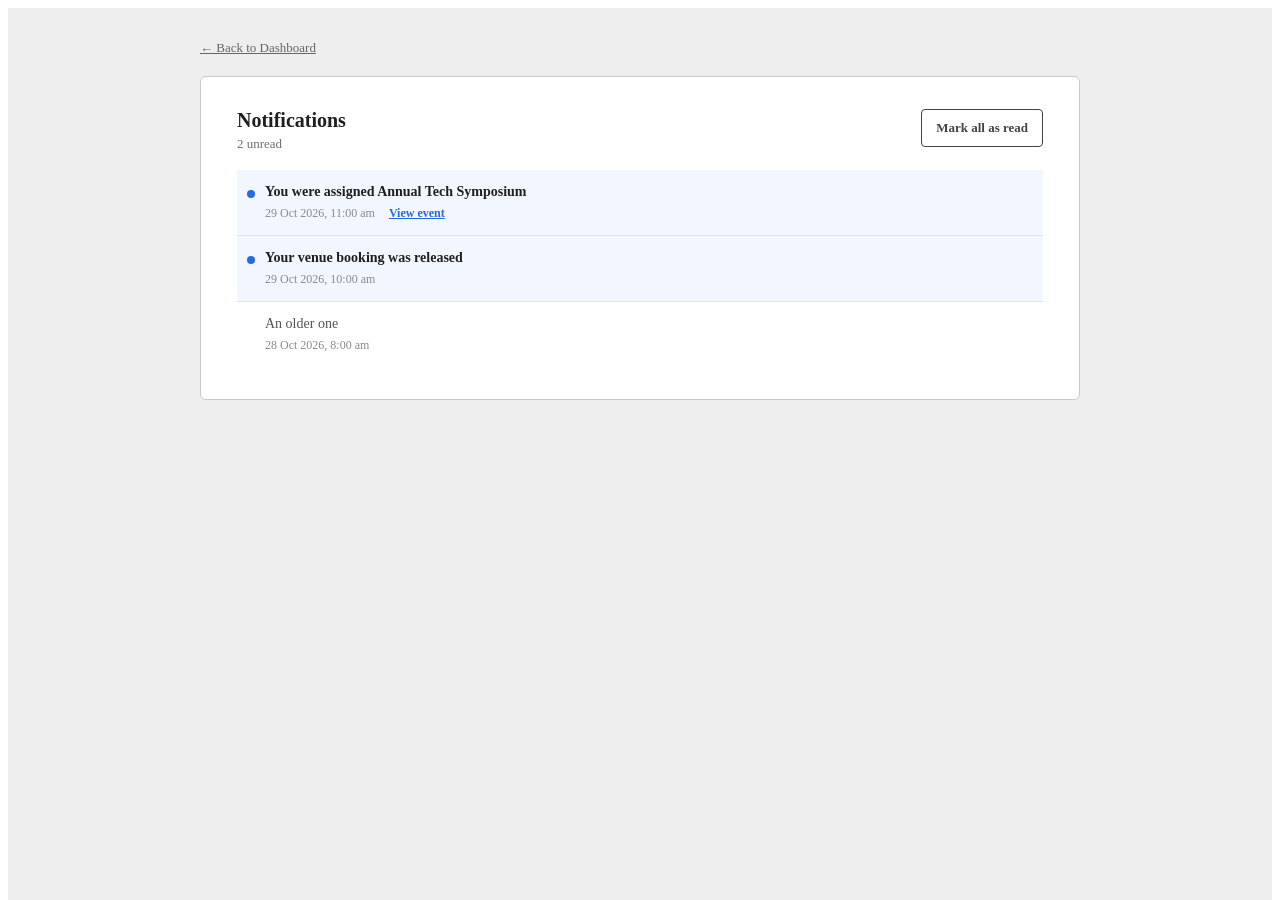
Test: NotificationsView › clicking an unread one marks it read and takes the count from the response, without refetching
Click the button with test id "message" that starts with "Your venue booking was released" at (364, 258), box top-left (265, 250), bottom-right (463, 266)
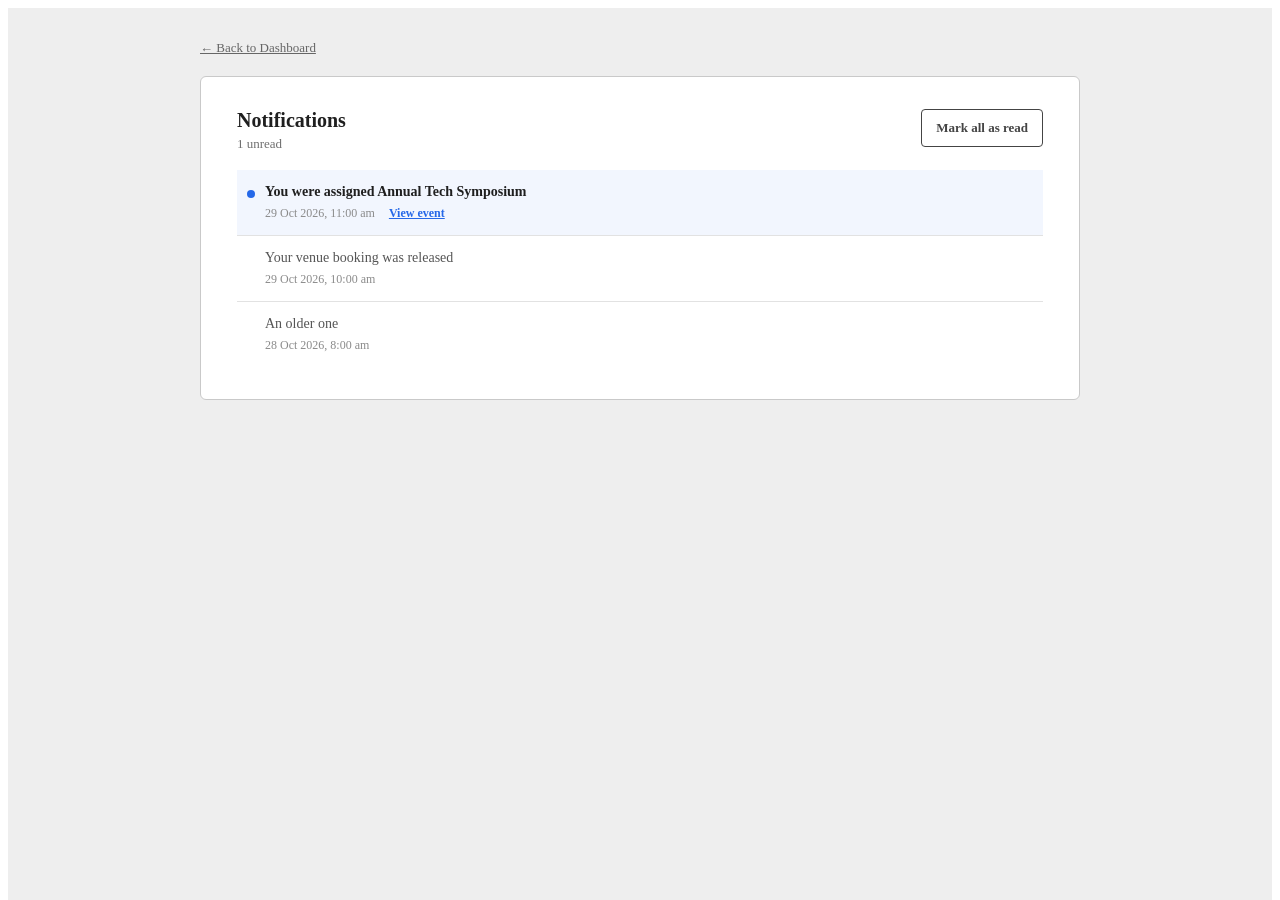
Now the text with test id "unread-summary" reads "1 unread", box top-left (237, 136), bottom-right (282, 151)
